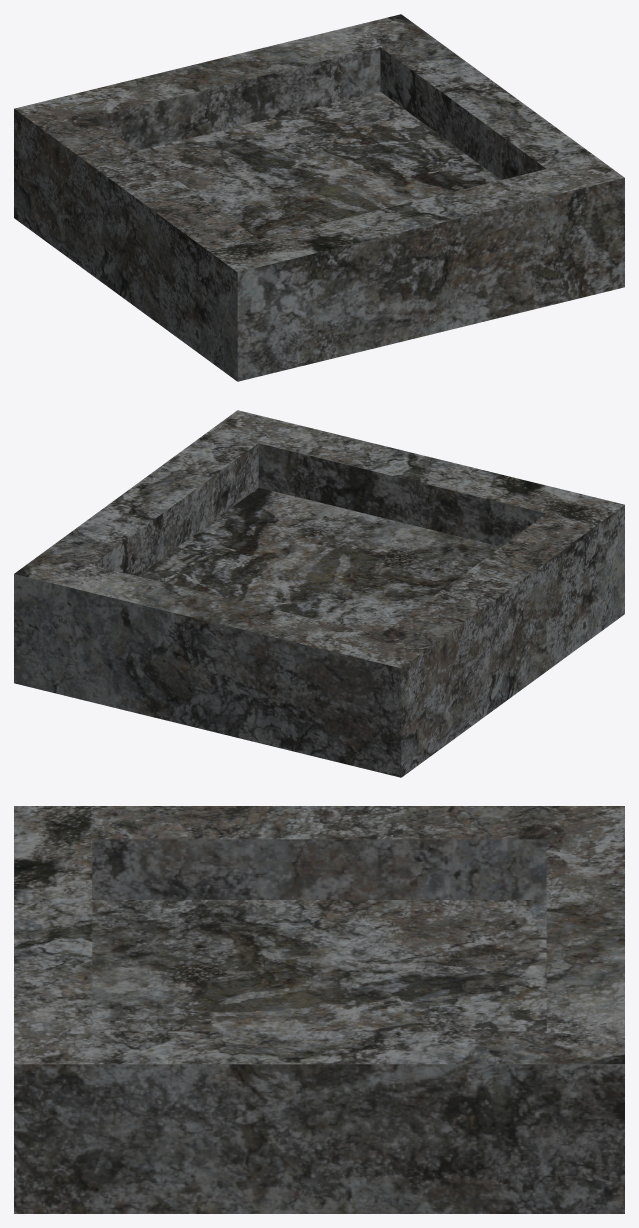
3 views of the same model, one above another, from view 1: azimuth 30°, elevation 25°; view 2: azimuth 150°, elevation 25°; view 3: azimuth 270°, elevation 25° (orthographic). The views are drawn at different scales.
Parts seen in each view (by area): view 1: Plane_Plane.001; view 2: Plane_Plane.001; view 3: Plane_Plane.001.
Boxes of the visible parts, x1=… form: Plane_Plane.001: x1=14, y1=14, x2=624, y2=381; Plane_Plane.001: x1=14, y1=410, x2=624, y2=777; Plane_Plane.001: x1=14, y1=806, x2=624, y2=1213.
Size of the model in its own units: 2 by 0.5399 by 2.
